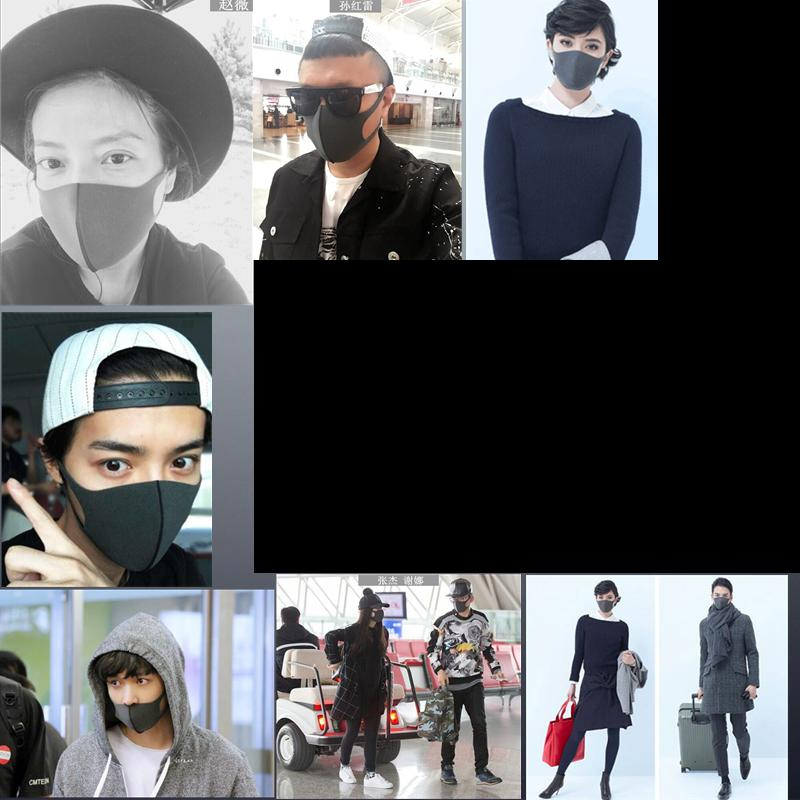OK: (31, 127, 175, 271), (85, 434, 222, 571), (291, 70, 382, 162), (551, 29, 610, 88), (597, 592, 617, 615), (714, 589, 733, 613), (369, 607, 387, 627), (452, 596, 472, 612)
WRONG: (106, 663, 174, 731)
